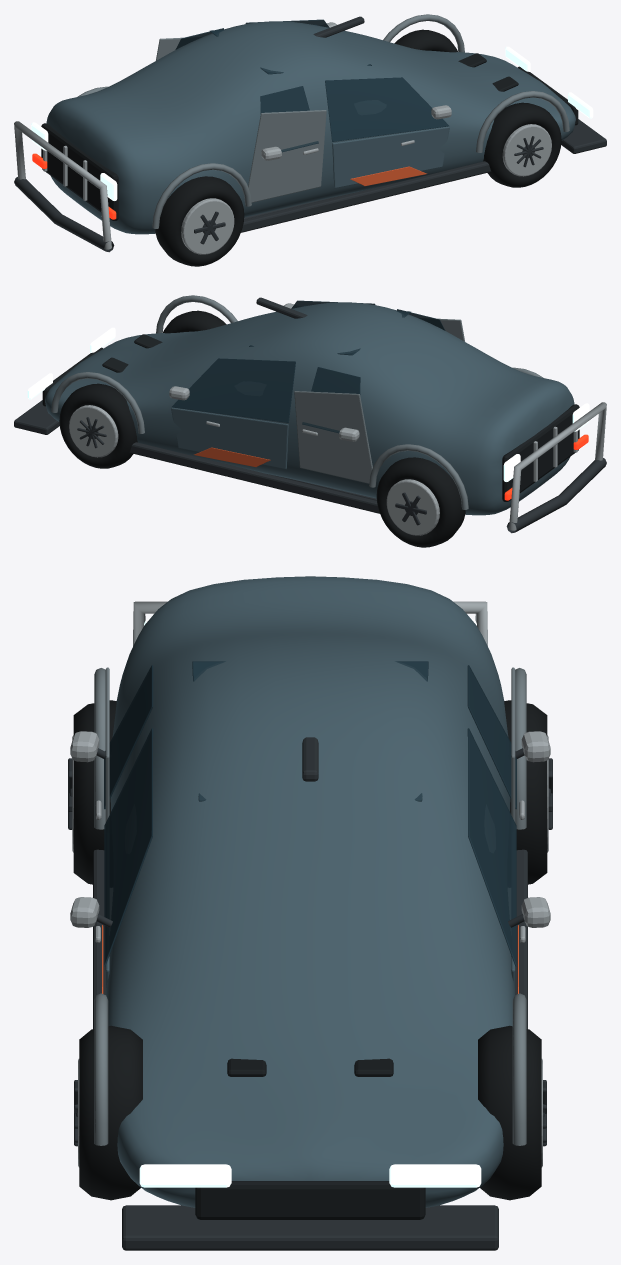
File: deadbolt_blueprint.glb
3 views of the same model, one above another, from view 1: azimuth 30°, elevation 25°; view 2: azimuth 150°, elevation 25°; view 3: azimuth 270°, elevation 25° (orthographic). The views are drawn at different scales.
Visible parts, largest first — view 1: Body_DeadboltUnifiedShell, Glass_CoupeSide_R, Panel_TruckDoor_R, Panel_CoupeDoor_R, Wheel_Truck_Tire_-1, Detail_Rocker_R, Wheel_Coupe_Tire_-1, Truck_Grille, Wheel_Truck_Rim_-1, Truck_BrushGuard, Wheel_Coupe_Rim_-1, Truck_Bumper (+9 smaller); view 2: Body_DeadboltUnifiedShell, Glass_CoupeSide_L, Panel_TruckDoor_L, Panel_CoupeDoor_L, Wheel_Truck_Tire_+1, Detail_Rocker_L, Wheel_Coupe_Tire_+1, Truck_Grille, Wheel_Truck_Rim_+1, Truck_BrushGuard, Wheel_Coupe_Rim_+1, Truck_Bumper (+9 smaller); view 3: Body_DeadboltUnifiedShell, Coupe_Splitter, Coupe_Grille, Wheel_Coupe_Tire_+1, Wheel_Coupe_Tire_-1, Glass_CoupeSide_L, Glass_CoupeSide_R, Wheel_Truck_Tire_-1, Wheel_Truck_Tire_+1, Glass_TruckSide_L, Glass_TruckSide_R, FenderLip_Coupe_+1 (+8 smaller).
Boxes of the visible parts, <box> form: Body_DeadboltUnifiedShell: <box>46,21,575,234</box>; Glass_CoupeSide_R: <box>325,77,449,141</box>; Panel_TruckDoor_R: <box>248,110,326,202</box>; Panel_CoupeDoor_R: <box>332,126,449,188</box>; Wheel_Truck_Tire_-1: <box>155,176,244,266</box>; Detail_Rocker_R: <box>241,161,491,232</box>; Wheel_Coupe_Tire_-1: <box>483,102,561,187</box>; Truck_Grille: <box>41,123,118,220</box>; Wheel_Truck_Rim_-1: <box>181,198,234,254</box>; Truck_BrushGuard: <box>14,121,111,249</box>; Wheel_Coupe_Rim_-1: <box>502,124,551,176</box>; Truck_Bumper: <box>14,177,114,252</box>; Body_DeadboltUnifiedShell: <box>45,302,574,515</box>; Glass_CoupeSide_L: <box>171,358,295,422</box>; Panel_TruckDoor_L: <box>294,391,372,483</box>; Panel_CoupeDoor_L: <box>171,407,288,469</box>; Wheel_Truck_Tire_+1: <box>376,457,465,547</box>; Detail_Rocker_L: <box>129,442,379,513</box>; Wheel_Coupe_Tire_+1: <box>59,383,137,468</box>; Truck_Grille: <box>502,404,579,501</box>; Wheel_Truck_Rim_+1: <box>386,479,439,535</box>; Truck_BrushGuard: <box>509,402,606,530</box>; Wheel_Coupe_Rim_+1: <box>69,405,118,457</box>; Truck_Bumper: <box>506,458,606,533</box>; Body_DeadboltUnifiedShell: <box>105,576,515,1207</box>; Coupe_Splitter: <box>122,1205,498,1250</box>; Coupe_Grille: <box>195,1181,425,1219</box>; Wheel_Coupe_Tire_+1: <box>478,1025,541,1200</box>; Wheel_Coupe_Tire_-1: <box>79,1025,142,1200</box>; Glass_CoupeSide_L: <box>467,728,516,966</box>; Glass_CoupeSide_R: <box>104,728,153,966</box>; Wheel_Truck_Tire_-1: <box>73,700,116,884</box>; Wheel_Truck_Tire_+1: <box>504,700,547,884</box>; Glass_TruckSide_L: <box>467,665,516,809</box>; Glass_TruckSide_R: <box>104,665,153,809</box>; FenderLip_Coupe_+1: <box>512,993,526,1145</box>.
Bounding box in the file's own units: 5.34 × 1.6 × 2.21.
